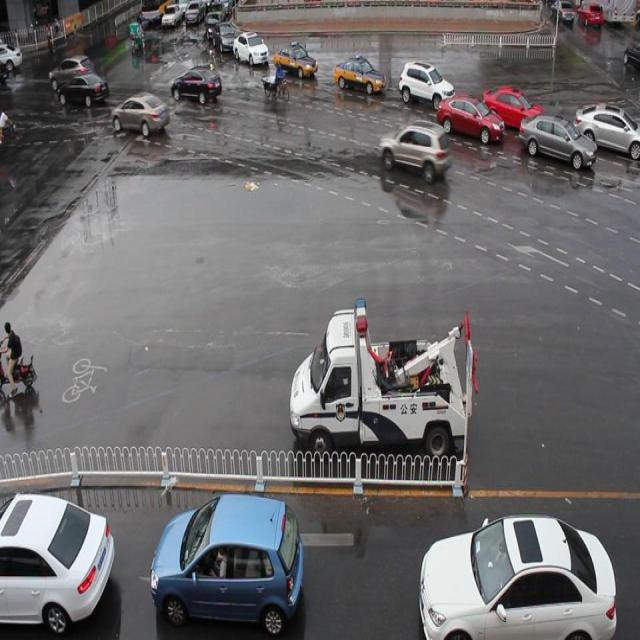bus: (288, 296, 476, 462)
car: (417, 509, 614, 640), (151, 492, 303, 634), (1, 486, 116, 634), (378, 115, 449, 188), (518, 109, 596, 172), (572, 100, 640, 160), (438, 89, 503, 147), (481, 79, 543, 134), (398, 55, 454, 113), (113, 88, 170, 142), (334, 49, 386, 100), (273, 40, 318, 84), (172, 65, 222, 104), (232, 27, 270, 68), (214, 22, 237, 59)
